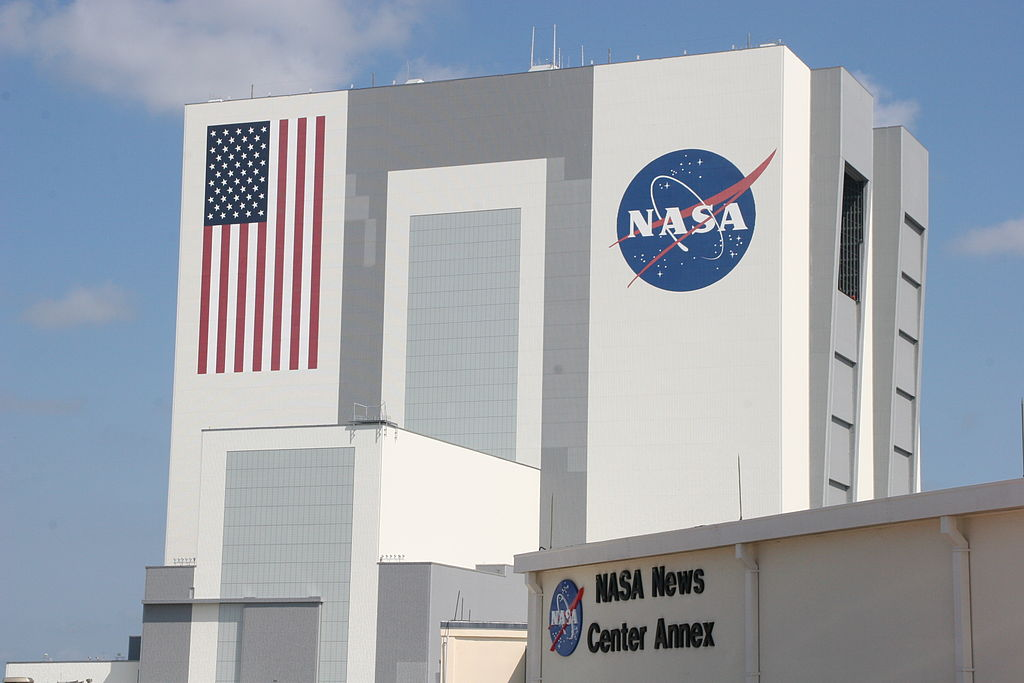NASA: (597, 140, 785, 301)
